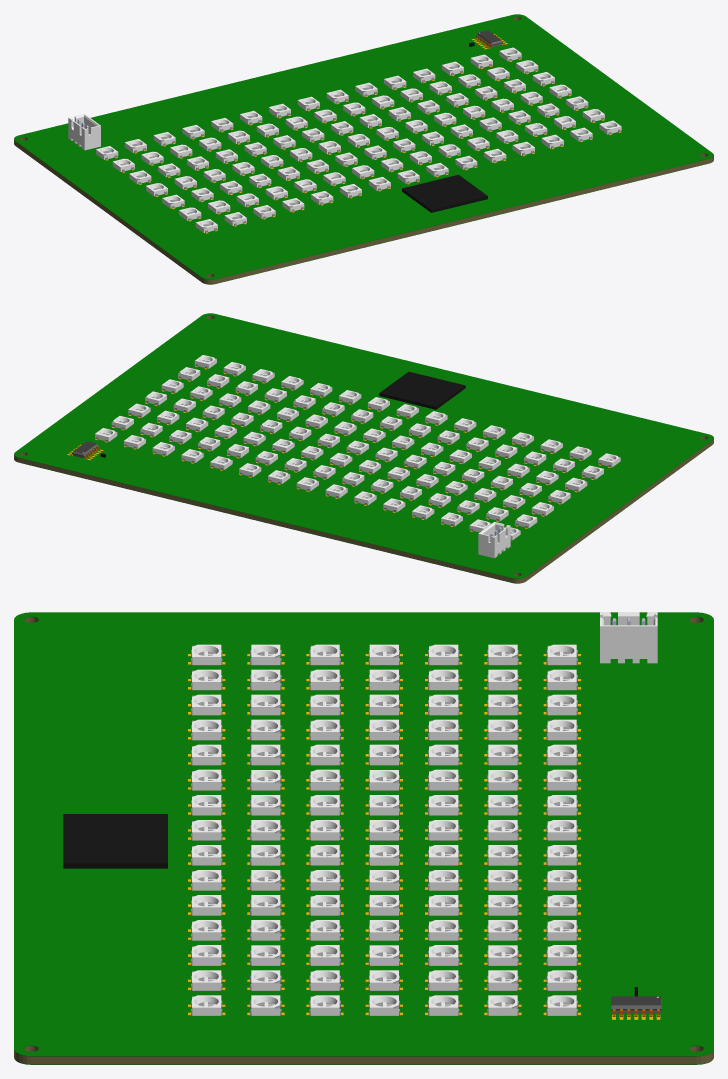
The model's file is led.glb.
3 renders of one model, top to bottom at view 1: azimuth 30°, elevation 25°; view 2: azimuth 150°, elevation 25°; view 3: azimuth 270°, elevation 25°, orthographic. The views are drawn at different scales.
Visible parts, largest first — view 1: 1-soldermask:1 (C-1-soldermask), 1 (C-Board), XIAO-ESP32C3-MODULE14P-2.54-21X17.8MM:U1 (C-XIAO-ESP32C3-MOD, 1-copper:1 (C-1-copper), B3B-XH-A v5:1 (C-B3B-XH-A v5), 64-soldermask:1 (C-64-soldermask); view 2: 1-soldermask:1 (C-1-soldermask), 1 (C-Board), XIAO-ESP32C3-MODULE14P-2.54-21X17.8MM:U1 (C-XIAO-ESP32C3-MOD, 1-copper:1 (C-1-copper), B3B-XH-A v5:1 (C-B3B-XH-A v5), 64-soldermask:1 (C-64-soldermask); view 3: 1-soldermask:1 (C-1-soldermask), 1 (C-Board), XIAO-ESP32C3-MODULE14P-2.54-21X17.8MM:U1 (C-XIAO-ESP32C3-MOD, 1-copper:1 (C-1-copper), B3B-XH-A v5:1 (C-B3B-XH-A v5), IC1 (C-SO14), 64-soldermask:1 (C-64-soldermask).
Boxes of the visible parts, x1,y1,x2,y2 form: 1-soldermask:1 (C-1-soldermask): (14, 14, 713, 279); 1 (C-Board): (14, 17, 713, 284); XIAO-ESP32C3-MODULE14P-2.54-21X17.8MM:U1 (C-XIAO-ESP32C3-MOD: (402, 174, 487, 212); 1-copper:1 (C-1-copper): (106, 34, 621, 233); B3B-XH-A v5:1 (C-B3B-XH-A v5): (68, 114, 100, 150); 64-soldermask:1 (C-64-soldermask): (16, 146, 713, 284); 1-soldermask:1 (C-1-soldermask): (14, 313, 713, 578); 1 (C-Board): (14, 316, 713, 583); XIAO-ESP32C3-MODULE14P-2.54-21X17.8MM:U1 (C-XIAO-ESP32C3-MOD: (379, 371, 465, 409); 1-copper:1 (C-1-copper): (67, 366, 610, 531); B3B-XH-A v5:1 (C-B3B-XH-A v5): (478, 522, 510, 558); 64-soldermask:1 (C-64-soldermask): (14, 445, 711, 583); 1-soldermask:1 (C-1-soldermask): (14, 612, 713, 1056); 1 (C-Board): (14, 617, 713, 1064); XIAO-ESP32C3-MODULE14P-2.54-21X17.8MM:U1 (C-XIAO-ESP32C3-MOD: (63, 814, 167, 868); 1-copper:1 (C-1-copper): (188, 654, 660, 1019); B3B-XH-A v5:1 (C-B3B-XH-A v5): (600, 612, 657, 663); IC1 (C-SO14): (611, 996, 661, 1016); 64-soldermask:1 (C-64-soldermask): (15, 1060, 712, 1064).
Bounding box in the file's own units: 0.18 × 0.0104 × 0.12.
